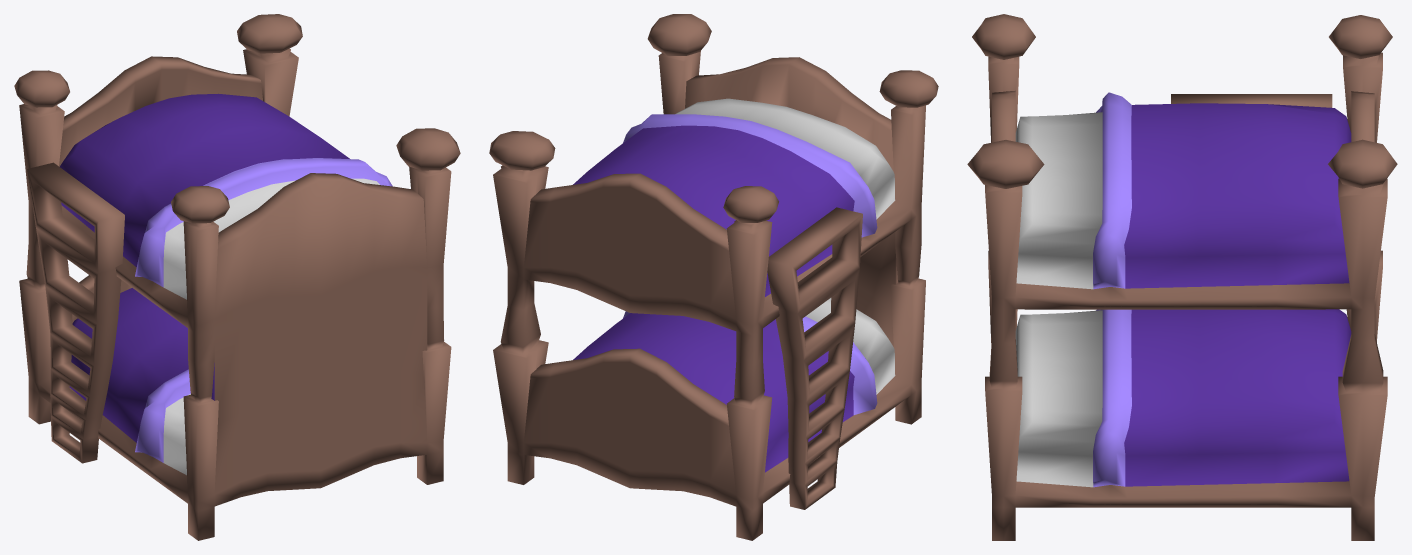
The model's file is props_superposed_bed.fbx.
The picture shows the model from 3 angles, left to right: view 1: azimuth 30°, elevation 25°; view 2: azimuth 150°, elevation 25°; view 3: azimuth 270°, elevation 25°; orthographic projection. The views are drawn at different scales.
Visible parts, largest first — view 1: props_double_bed; view 2: props_double_bed; view 3: props_double_bed.
Part boxes in pixels (x1=…): props_double_bed: x1=14, y1=14, x2=460, y2=540; props_double_bed: x1=489, y1=14, x2=938, y2=540; props_double_bed: x1=967, y1=14, x2=1397, y2=540.
Bounding box in the file's own units: 3.33 × 3.83 × 3.84.
